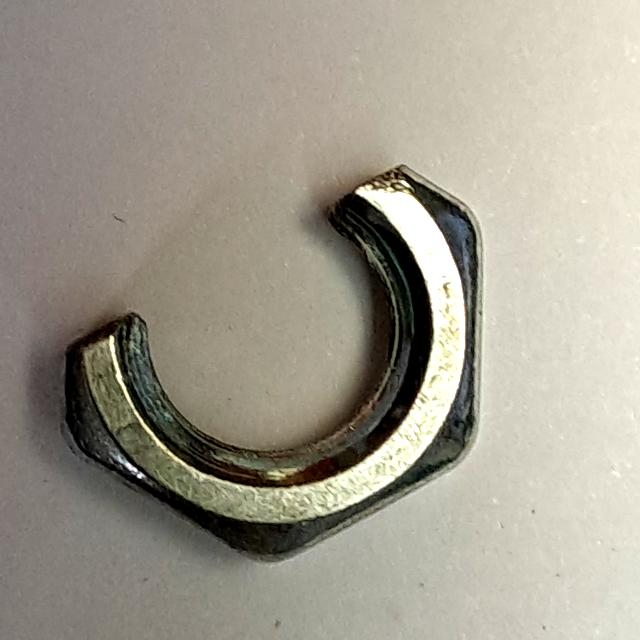Fracture: (47, 154, 497, 589)
